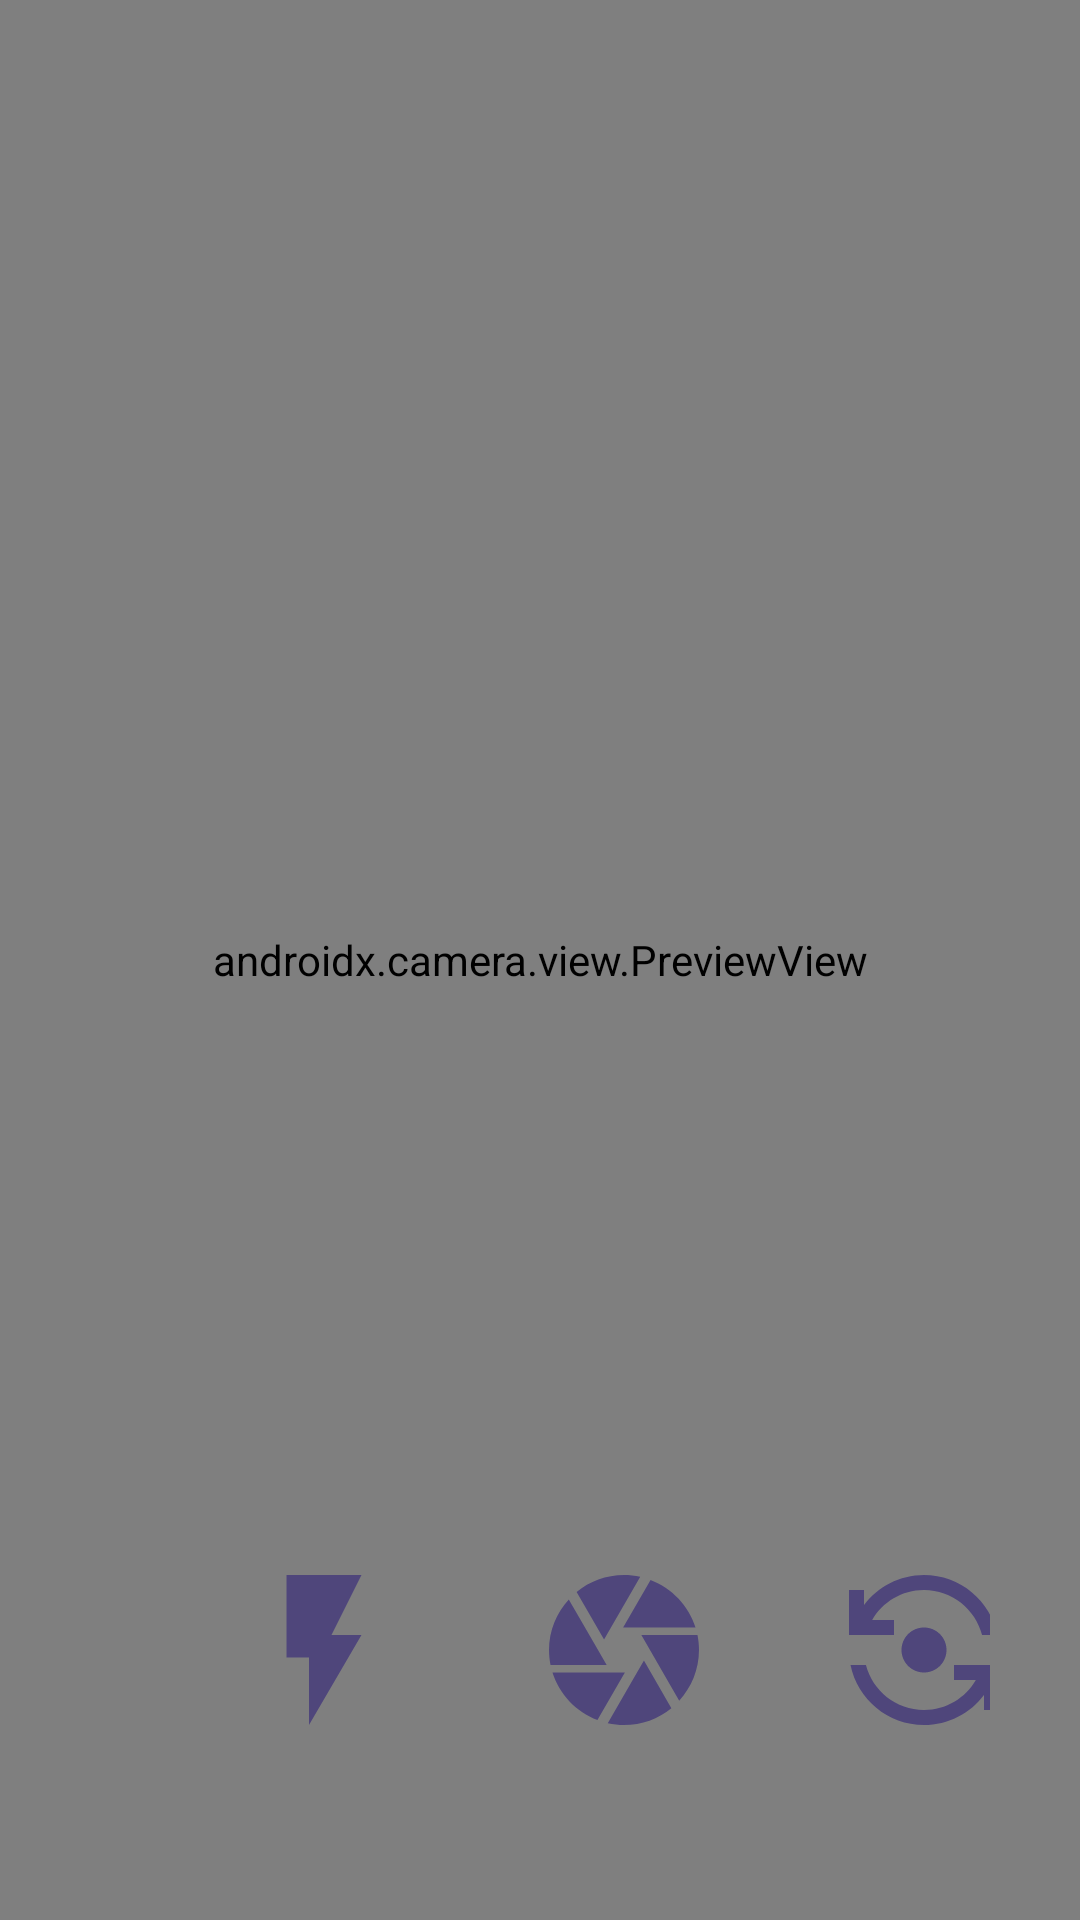

Icons on this 1080w x 1920h Android screen, each with its box as box(x1, y1, x2, y2):
flash: box(286, 1575, 361, 1724)
